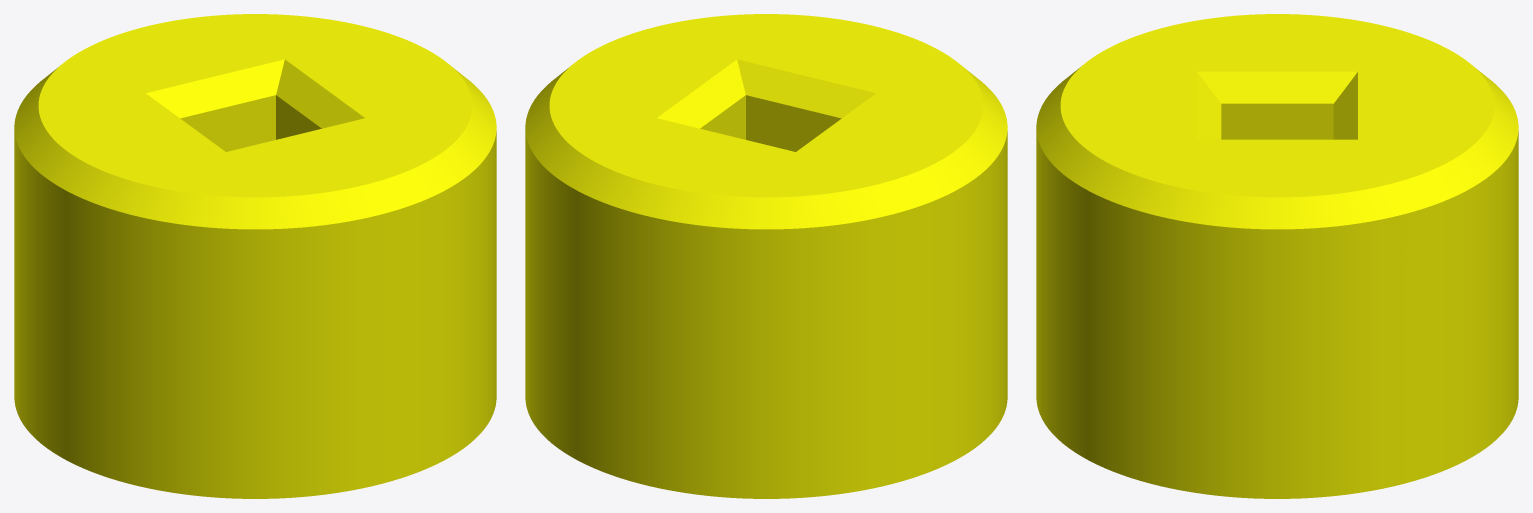
Rendered from parametrik_montaj_Cylinder_squareHole.gltf.
3 views of the same model, side by side, from view 1: azimuth 30°, elevation 25°; view 2: azimuth 150°, elevation 25°; view 3: azimuth 270°, elevation 25° (orthographic).
Parts seen in each view (by area): view 1: base_cylinder_part; view 2: base_cylinder_part; view 3: base_cylinder_part.
Part boxes in pixels (bbox=[...]): base_cylinder_part: bbox=[14, 14, 496, 498]; base_cylinder_part: bbox=[525, 14, 1007, 498]; base_cylinder_part: bbox=[1036, 14, 1518, 498].
Bounding box in the file's own units: 30 × 20 × 29.99.
